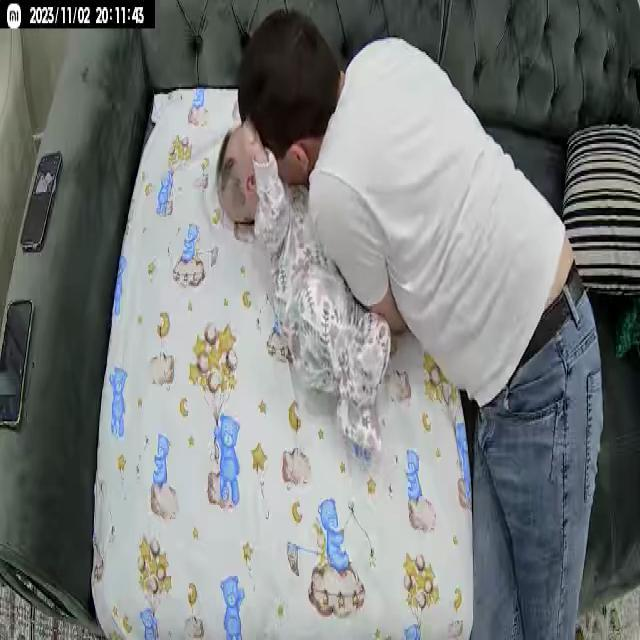baby: (215, 121, 397, 466)
